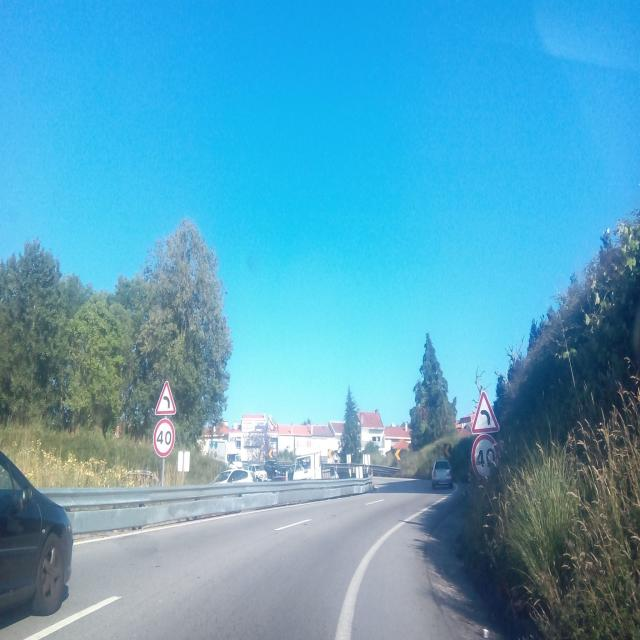car: (0, 436, 74, 626), (430, 459, 454, 489), (213, 468, 253, 483), (250, 464, 268, 482)
